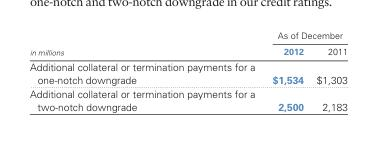table: (28, 29, 346, 112)
table column: (28, 29, 262, 112), (262, 29, 309, 112), (309, 29, 346, 112)
table column header: (28, 29, 346, 58)
table row: (28, 58, 346, 86), (28, 86, 346, 112), (28, 43, 346, 58), (28, 29, 346, 43)
table spanning cell: (28, 29, 262, 58), (262, 29, 346, 43)
